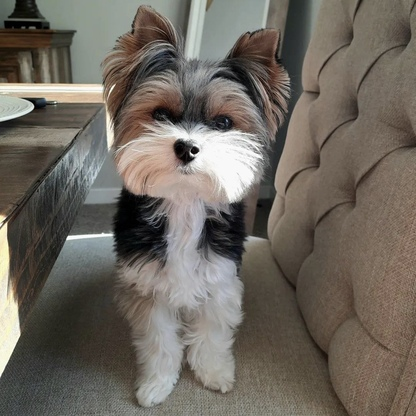yorkshire: (101, 4, 294, 410)
